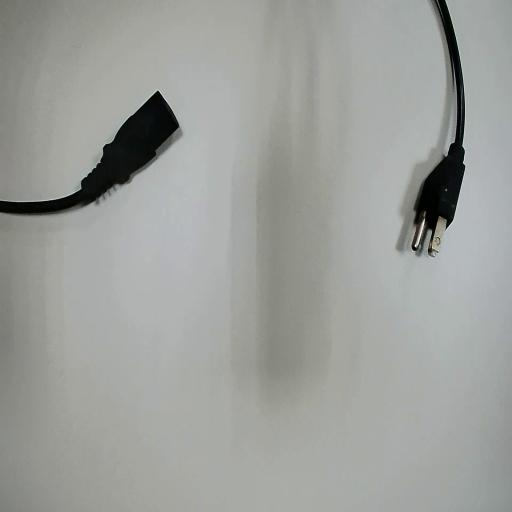wire: (0, 92, 177, 213), (414, 0, 463, 240)
